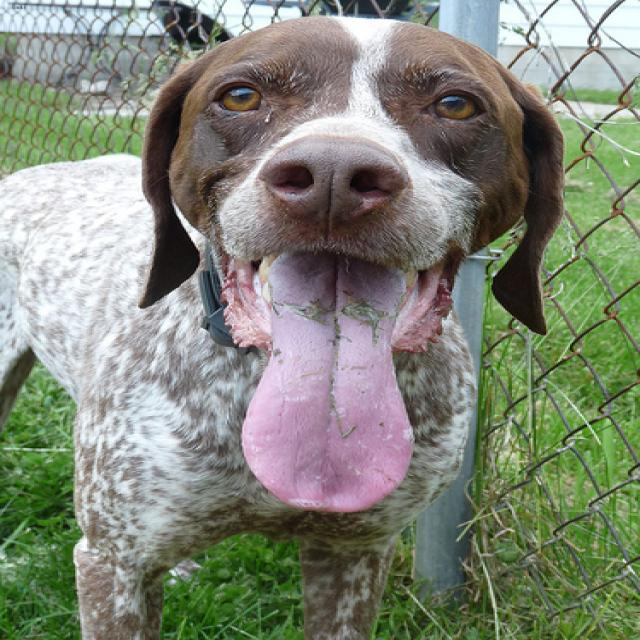dog-german_shorthaired: (2, 5, 580, 637)
